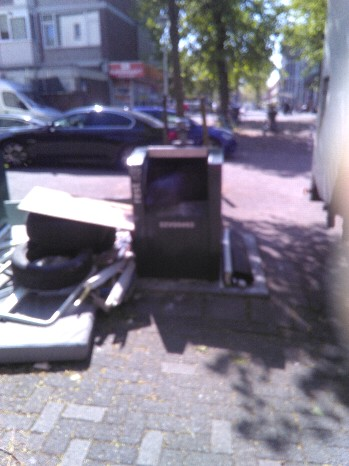Container: (137, 140, 223, 280)
Rest: (0, 283, 105, 358), (27, 185, 131, 232), (9, 245, 116, 288), (16, 213, 122, 251), (225, 217, 262, 281)
